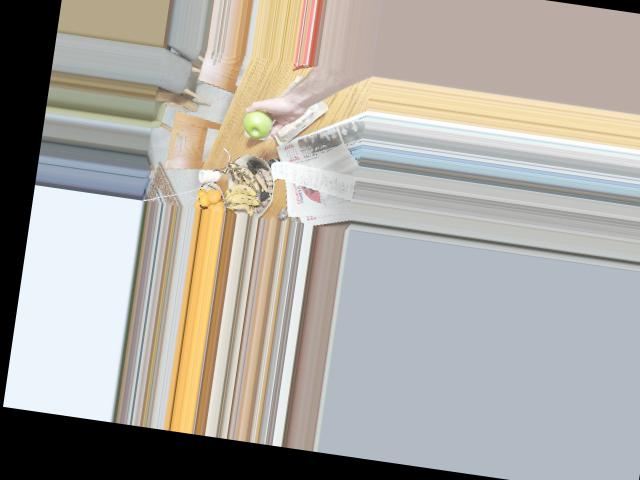apple: (239, 106, 277, 142)
